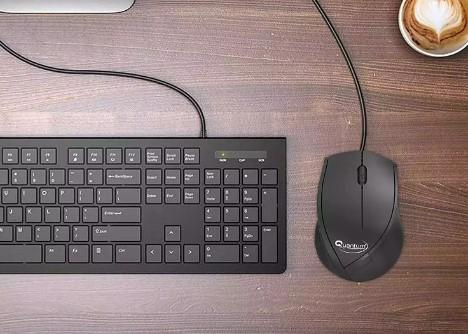computer mouse: (314, 151, 404, 284)
